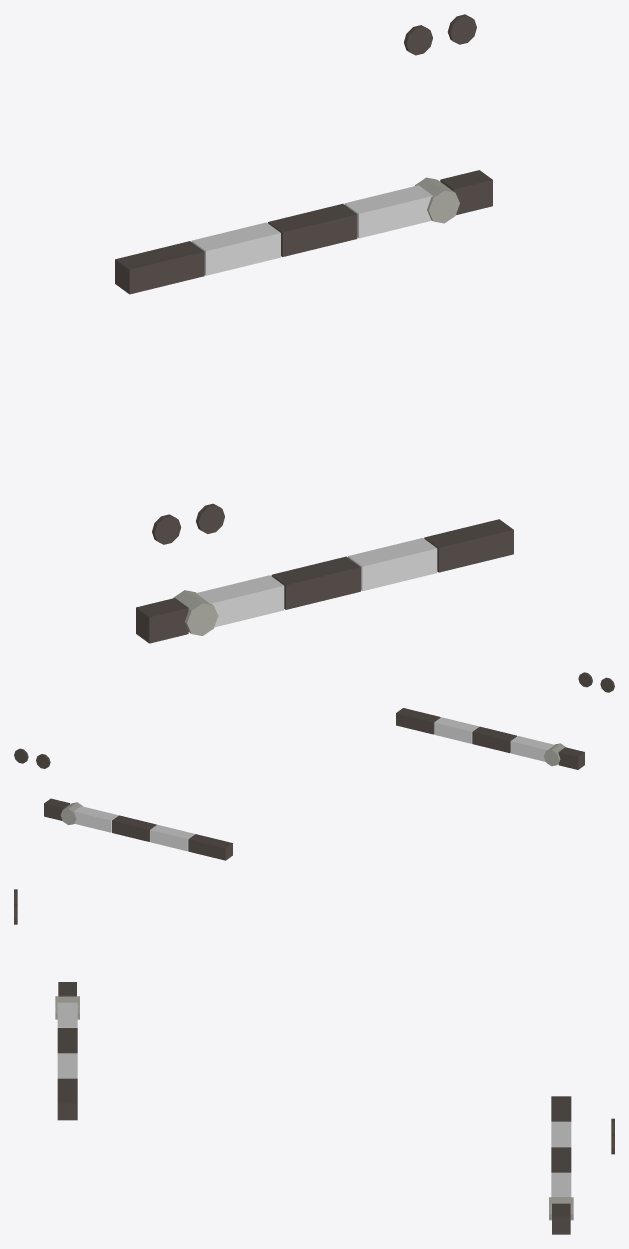
File: SM_PasoNivel_90E_v3_Militar_LOD1.fbx
3 views of the same model, one above another, from view 1: azimuth 30°, elevation 25°; view 2: azimuth 150°, elevation 25°; view 3: azimuth 270°, elevation 25° (orthographic). The views are drawn at different scales.
Parts seen in each view (by area): view 1: Barrera_2, Barrera_1, Luces_B, Luces_A; view 2: Barrera_1, Barrera_2, Luces_A, Luces_B; view 3: Barrera_1, Barrera_2.
Part boxes in pixels (x1,y1,x2,y2): Barrera_2: (136,519,513,643); Barrera_1: (115,170,492,294); Luces_B: (196,14,476,533); Luces_A: (152,25,432,544); Barrera_1: (44,798,232,860); Barrera_2: (396,708,584,769); Luces_A: (36,677,614,768); Luces_B: (14,672,592,763); Barrera_1: (549,1096,573,1234); Barrera_2: (55,982,79,1120).
Size of what is drawn, in the model's own units: 9.7 by 1.91 by 9.74.
